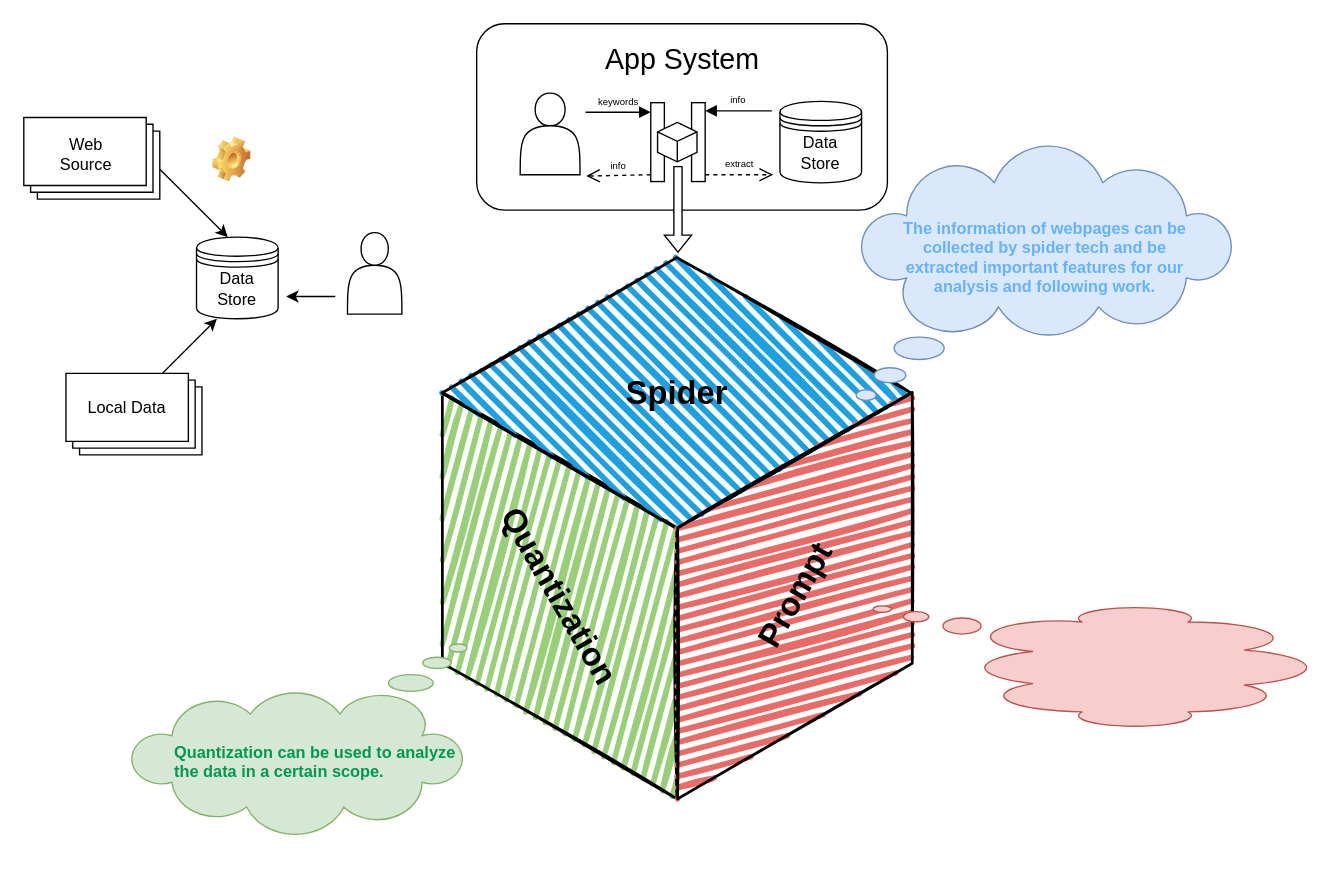
This 1331x895 diagram has some shape labels left out. The centre of each missing label's shape, as x and y in pixels:
"Prompt Engineering for the collaboration between Fin-Tech and AI." goes at (1089,666).
"User" goes at (549,133).
"User Inputs" goes at (374,272).
"Washing" goes at (231,159).
